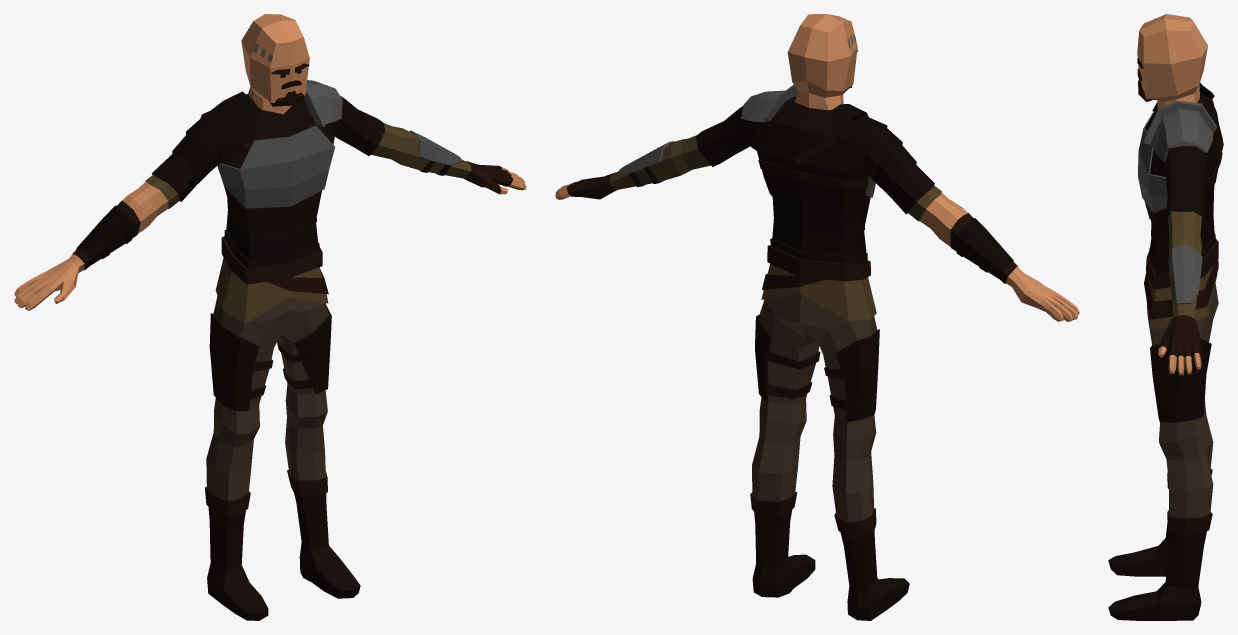
Rendered from Hero_No_Swordbsdftest.obj.
3 views of the same model, side by side, from view 1: azimuth 30°, elevation 25°; view 2: azimuth 150°, elevation 25°; view 3: azimuth 270°, elevation 25° (orthographic). The views are drawn at different scales.
Parts seen in each view (by area): view 1: Hero_Cube.169_Med_Leather, Hero_Cube.169_Material.002, Hero_Cube.169_Steel_Armmor, Hero_Cube.169_skin, Hero_Cube.169_Light_Leather, Hero_Cube.169_Dark_Leather, Hero_Cube.169_Hero_Under_shirt; view 2: Hero_Cube.169_Med_Leather, Hero_Cube.169_Material.002, Hero_Cube.169_Light_Leather, Hero_Cube.169_skin, Hero_Cube.169_Dark_Leather, Hero_Cube.169_Hero_Under_shirt, Hero_Cube.169_Steel_Armmor; view 3: Hero_Cube.169_Med_Leather, Hero_Cube.169_Steel_Armmor, Hero_Cube.169_skin, Hero_Cube.169_Material.002, Hero_Cube.169_Light_Leather, Hero_Cube.169_Hero_Under_shirt, Hero_Cube.169_Dark_Leather.
Boxes of the visible parts, x1=… form: Hero_Cube.169_Med_Leather: x1=101, y1=94, x2=385, y2=620; Hero_Cube.169_Material.002: x1=206, y1=296, x2=328, y2=500; Hero_Cube.169_Steel_Armmor: x1=217, y1=80, x2=462, y2=208; Hero_Cube.169_skin: x1=14, y1=14, x2=526, y2=310; Hero_Cube.169_Light_Leather: x1=72, y1=63, x2=513, y2=516; Hero_Cube.169_Dark_Leather: x1=76, y1=91, x2=318, y2=260; Hero_Cube.169_Hero_Under_shirt: x1=145, y1=123, x2=471, y2=323; Hero_Cube.169_Med_Leather: x1=696, y1=96, x2=990, y2=620; Hero_Cube.169_Material.002: x1=752, y1=293, x2=877, y2=521; Hero_Cube.169_Light_Leather: x1=566, y1=50, x2=1017, y2=537; Hero_Cube.169_skin: x1=555, y1=14, x2=1079, y2=321; Hero_Cube.169_Dark_Leather: x1=772, y1=104, x2=1013, y2=271; Hero_Cube.169_Hero_Under_shirt: x1=609, y1=135, x2=941, y2=320; Hero_Cube.169_Steel_Armmor: x1=619, y1=84, x2=875, y2=197; Hero_Cube.169_Med_Leather: x1=1108, y1=92, x2=1222, y2=620; Hero_Cube.169_Steel_Armmor: x1=1138, y1=100, x2=1216, y2=304; Hero_Cube.169_skin: x1=1137, y1=14, x2=1207, y2=375; Hero_Cube.169_Material.002: x1=1147, y1=283, x2=1218, y2=518; Hero_Cube.169_Light_Leather: x1=1137, y1=58, x2=1223, y2=534; Hero_Cube.169_Hero_Under_shirt: x1=1146, y1=211, x2=1217, y2=328; Hero_Cube.169_Dark_Leather: x1=1150, y1=82, x2=1214, y2=265.
Size of the model in its own units: 2.28 by 2.45 by 0.4465.
